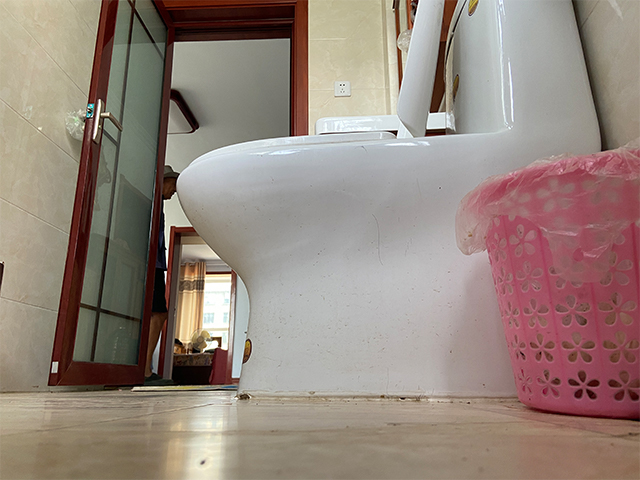carpet: (132, 384, 238, 392)
closestool: (175, 1, 602, 402)
trashcan: (454, 139, 640, 423)
